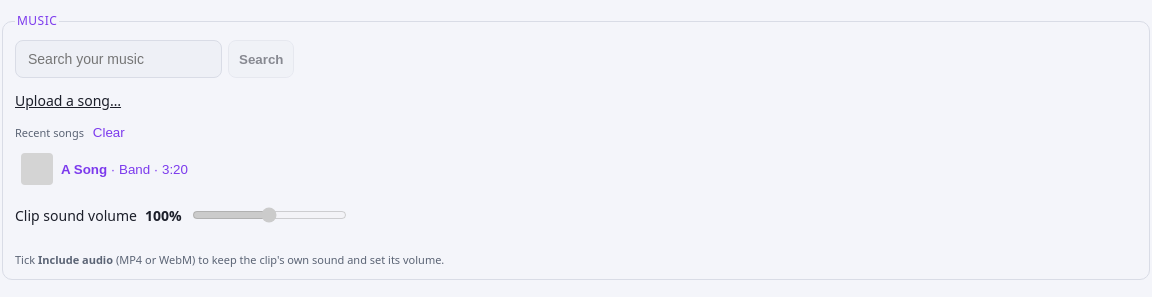
Test: the Music box › forgets the recent songs when asked
Expected: the list named "Recent songs" is shown, [15,148,1137,190]
Click the button "Clear": (109,132) [87,123,131,142]
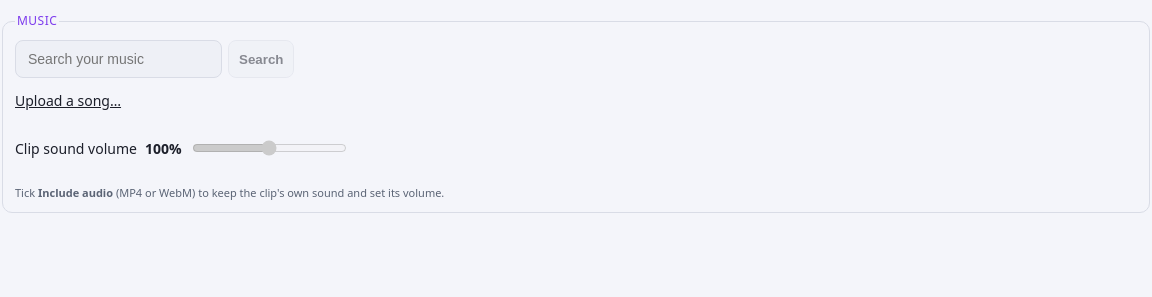
Result: the list "Recent songs" is gone
